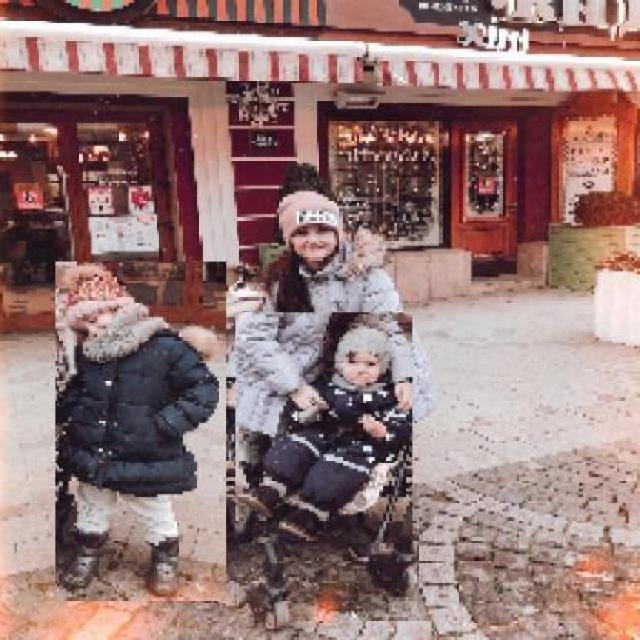child: (54, 262, 226, 602), (234, 312, 412, 545)
